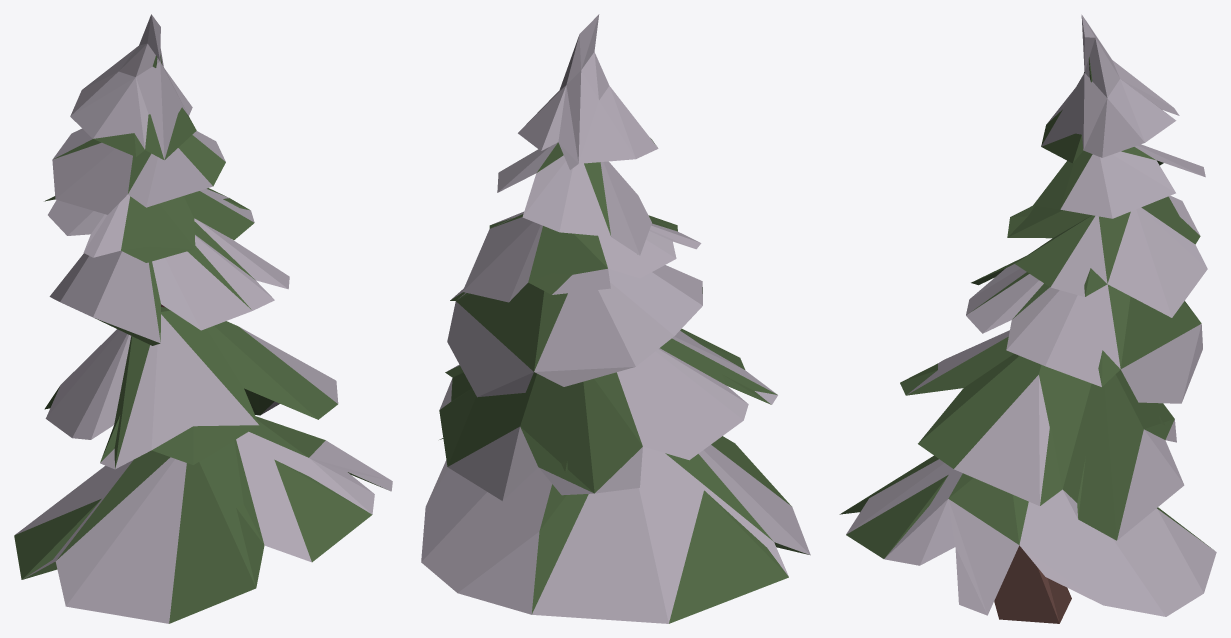
File: pine-tree-show-3.gltf
3 renders of one model, left to right at view 1: azimuth 30°, elevation 25°; view 2: azimuth 150°, elevation 25°; view 3: azimuth 270°, elevation 25°, orthographic. The views are drawn at different scales.
Parts seen in each view (by area): view 1: PineTree_Snow_3_Cylinder.078; view 2: PineTree_Snow_3_Cylinder.078; view 3: PineTree_Snow_3_Cylinder.078.
Boxes of the visible parts, box(x1,y1,x2,y2) form: PineTree_Snow_3_Cylinder.078: box(14, 14, 392, 623); PineTree_Snow_3_Cylinder.078: box(421, 14, 810, 623); PineTree_Snow_3_Cylinder.078: box(839, 14, 1216, 623).
Size of the model in its own units: 0.0217 by 0.0331 by 0.0194.
